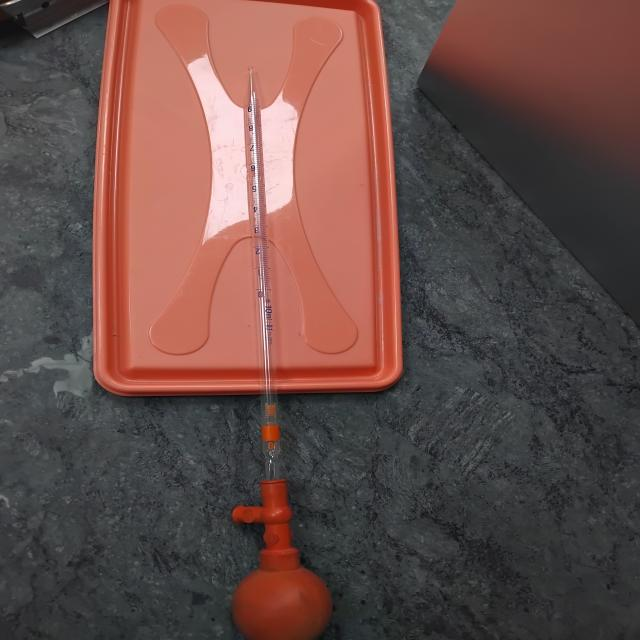Volumetric_Pipet: (207, 33, 340, 640)
